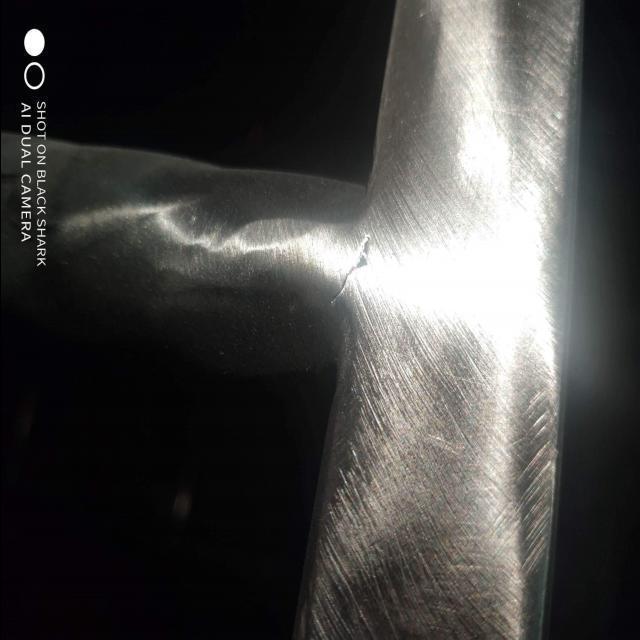Crack: (328, 234, 370, 307)
